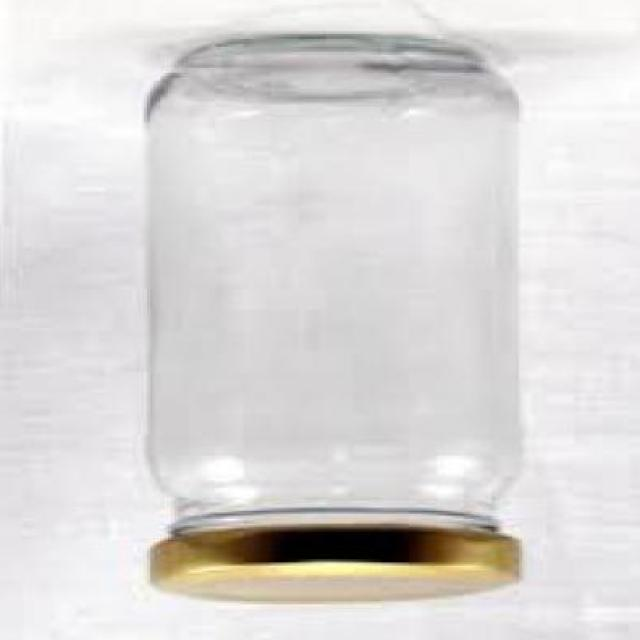kaca: (140, 41, 512, 538)
